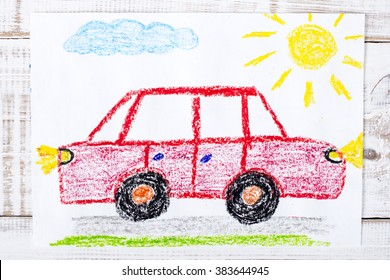car: (53, 83, 348, 226)
cloud: (63, 18, 200, 59)
sun: (240, 14, 364, 108)
